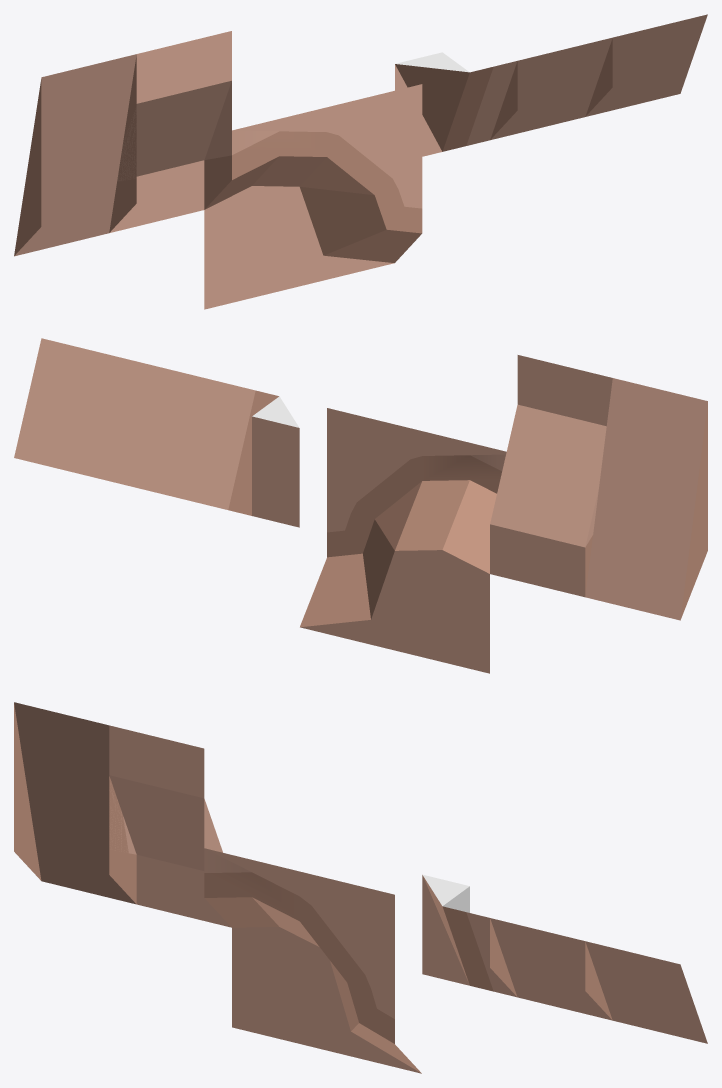
File: desert_tiles.glb
The picture shows the model from 3 angles, top to bottom: view 1: azimuth 30°, elevation 25°; view 2: azimuth 150°, elevation 25°; view 3: azimuth 330°, elevation 25°; orthographic projection.
Parts seen in each view (by area): view 1: terrain_rampLarge-col, terrain_rampLarge_detailed-col, terrain_sideCorner-col, terrain_sideCornerInner-col, terrain-col, terrain_ramp-col, terrain_sideEnd-col, terrain_sideCliff-col, terrain_side-col; view 2: terrain_rampLarge-col, terrain_rampLarge_detailed-col, terrain_side-col, terrain_ramp-col, terrain_sideCliff-col, terrain_sideEnd-col, terrain_sideCornerInner-col, terrain-col, terrain_sideCorner-col; view 3: terrain_rampLarge-col, terrain_rampLarge_detailed-col, terrain-col, terrain_sideCornerInner-col, terrain_ramp-col, terrain_side-col, terrain_sideCliff-col, terrain_sideEnd-col, terrain_sideCorner-col.
Boxes of the visible parts, bbox=[...] form: terrain_rampLarge-col: bbox=[14, 54, 136, 256]; terrain_rampLarge_detailed-col: bbox=[110, 31, 231, 232]; terrain_sideCorner-col: bbox=[299, 184, 422, 286]; terrain_sideCornerInner-col: bbox=[300, 84, 422, 195]; terrain-col: bbox=[204, 187, 299, 309]; terrain_ramp-col: bbox=[490, 37, 612, 140]; terrain_sideEnd-col: bbox=[395, 52, 517, 156]; terrain_sideCliff-col: bbox=[205, 107, 326, 209]; terrain_side-col: bbox=[586, 14, 707, 116]; terrain_rampLarge-col: bbox=[585, 378, 707, 620]; terrain_rampLarge_detailed-col: bbox=[490, 355, 612, 597]; terrain_side-col: bbox=[14, 338, 136, 480]; terrain_ramp-col: bbox=[109, 361, 231, 504]; terrain_sideCliff-col: bbox=[395, 431, 506, 573]; terrain_sideEnd-col: bbox=[204, 384, 299, 527]; terrain_sideCornerInner-col: bbox=[327, 408, 422, 550]; terrain-col: bbox=[395, 551, 489, 673]; terrain_sideCorner-col: bbox=[300, 507, 394, 650]; terrain_rampLarge-col: bbox=[14, 702, 136, 904]; terrain_rampLarge_detailed-col: bbox=[109, 725, 231, 927]; terrain-col: bbox=[232, 928, 326, 1050]; terrain_sideCornerInner-col: bbox=[299, 871, 394, 994]; terrain_ramp-col: bbox=[490, 918, 612, 1020]; terrain_side-col: bbox=[585, 941, 707, 1043]; terrain_sideCliff-col: bbox=[204, 848, 321, 949]; terrain_sideEnd-col: bbox=[422, 874, 516, 997]; terrain_sideCorner-col: bbox=[327, 957, 421, 1073].
Bounding box in the file's own units: 7 × 3 × 0.5.
